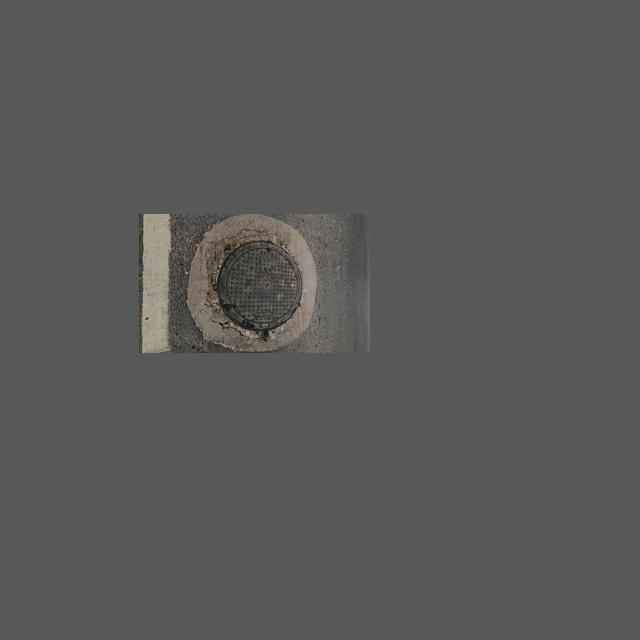circle: (188, 217, 316, 350)
